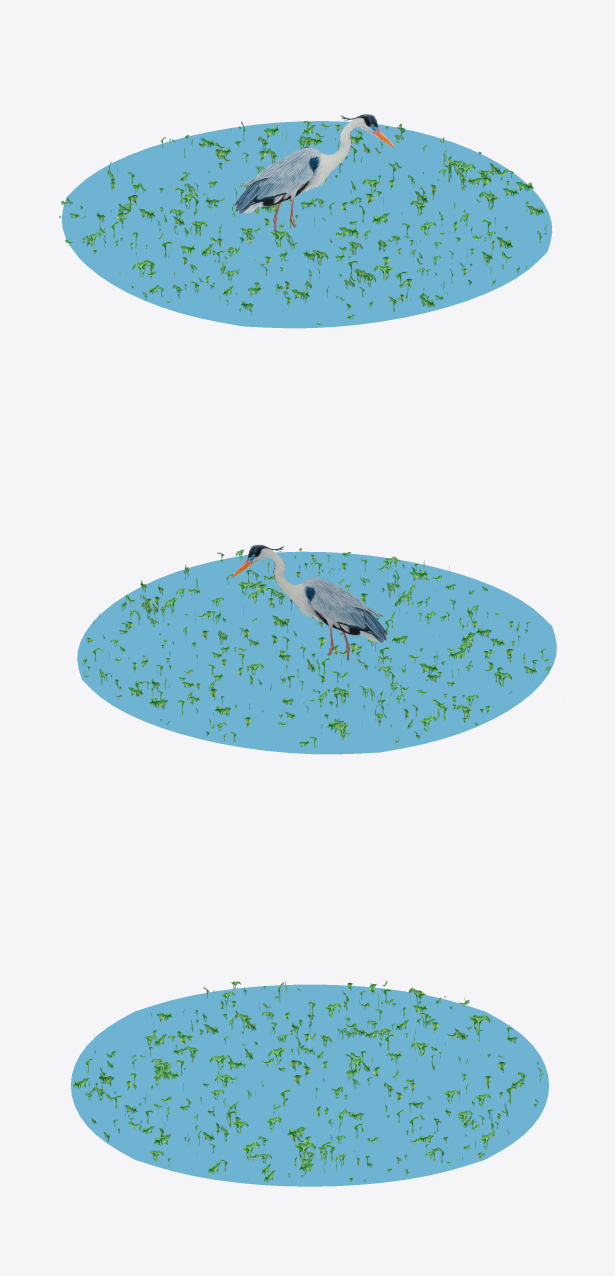
The model's file is prueba-reflejos4.glb.
3 views of the same model, one above another, from view 1: azimuth 30°, elevation 25°; view 2: azimuth 150°, elevation 25°; view 3: azimuth 270°, elevation 25° (orthographic). The views are drawn at different scales.
Parts seen in each view (by area): view 1: Plane, garza-sola; view 2: Plane, garza-sola; view 3: Plane.
Part boxes in pixels (box(x1,y1,x2,y2)): Plane: box(61, 121, 552, 328); garza-sola: box(234, 114, 394, 230); Plane: box(77, 551, 556, 754); garza-sola: box(232, 545, 387, 660); Plane: box(70, 984, 549, 1186).
Size of what is drawn, in the model's own units: 2.52 by 1.01 by 2.41.
Materials: 8 (7 with a texture image).
